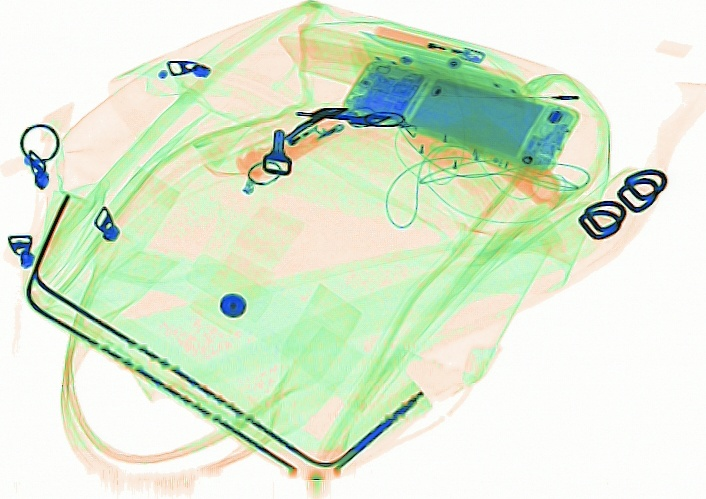lighter: (233, 115, 345, 183), (373, 21, 485, 65)
